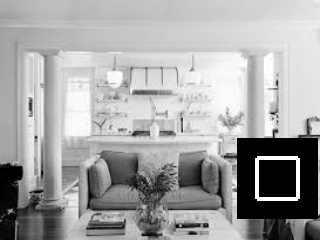square: (237, 137, 318, 219)
